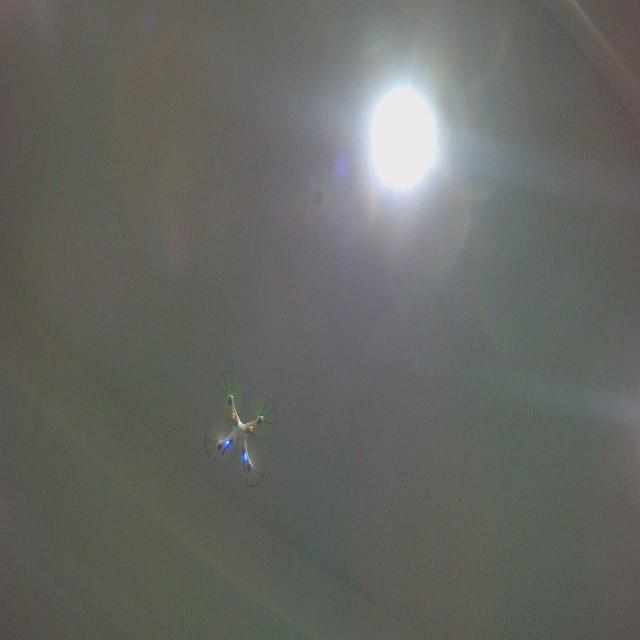drone: (202, 367, 283, 491)
